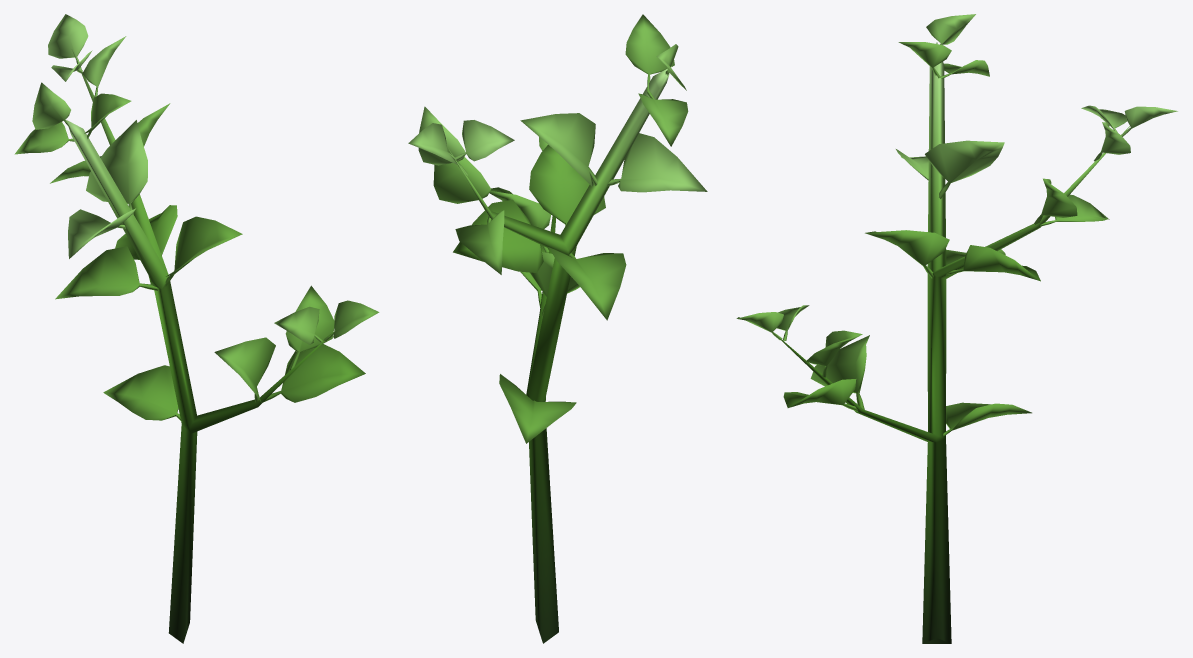
The picture shows the model from 3 angles, left to right: view 1: azimuth 30°, elevation 25°; view 2: azimuth 150°, elevation 25°; view 3: azimuth 270°, elevation 25°; orthographic projection. The views are drawn at different scales.
Parts seen in each view (by area): view 1: fp05; view 2: fp05; view 3: fp05.
Boxes of the visible parts, x1,y1,x2,y2 form: fp05: [14, 14, 379, 643]; fp05: [408, 14, 707, 643]; fp05: [736, 14, 1177, 643].
Size of the model in its own units: 55.32 by 120 by 83.83.
